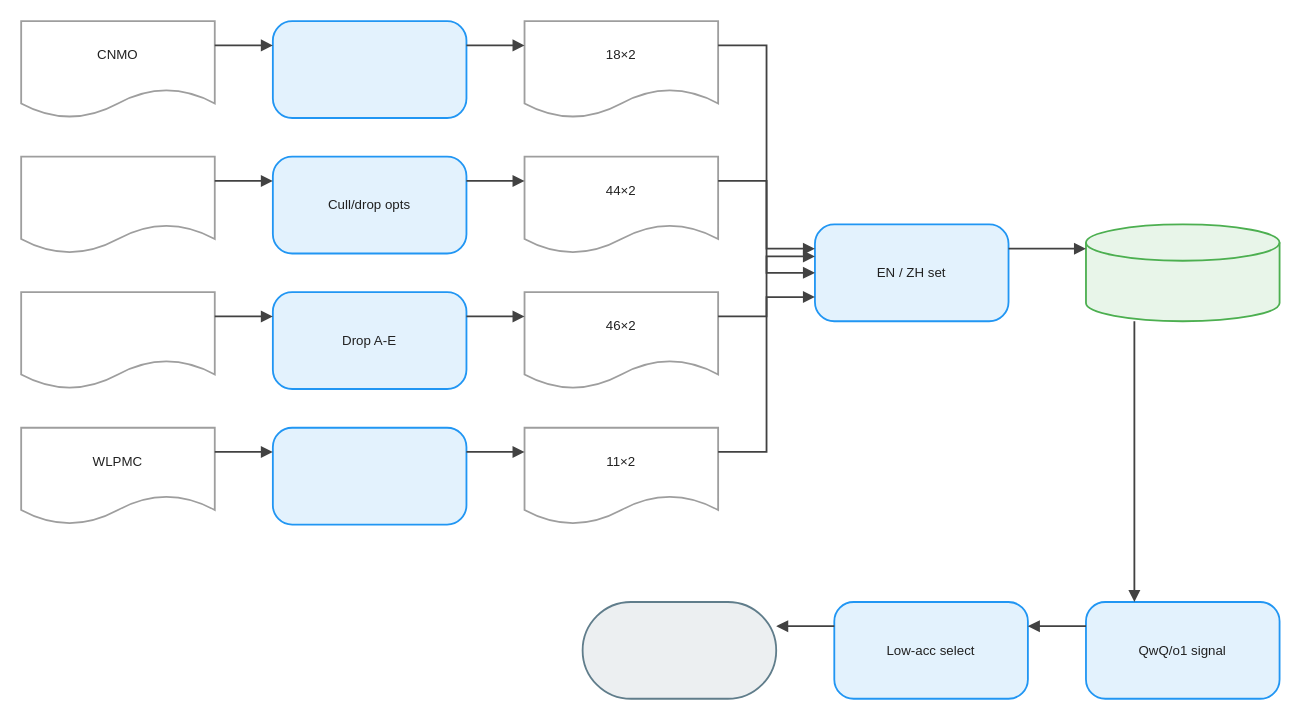
The diagram is 1302 pixels wide and 721 high, and some of its shapes have lost their labels. The centre of each missing label's shape, as x and y in pixels:
"AMC" goes at point (117, 340).
"CCEE" goes at point (117, 204).
"Full 119×2" goes at point (1182, 272).
"Hard EN21/ZH24" goes at point (679, 650).
"Hide options" goes at point (369, 69).
"Recent set" goes at point (369, 475).
